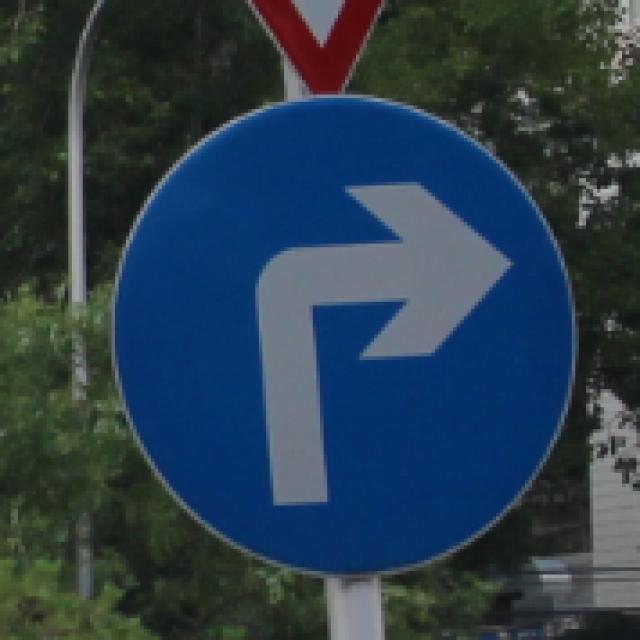Right: (111, 88, 581, 587)
